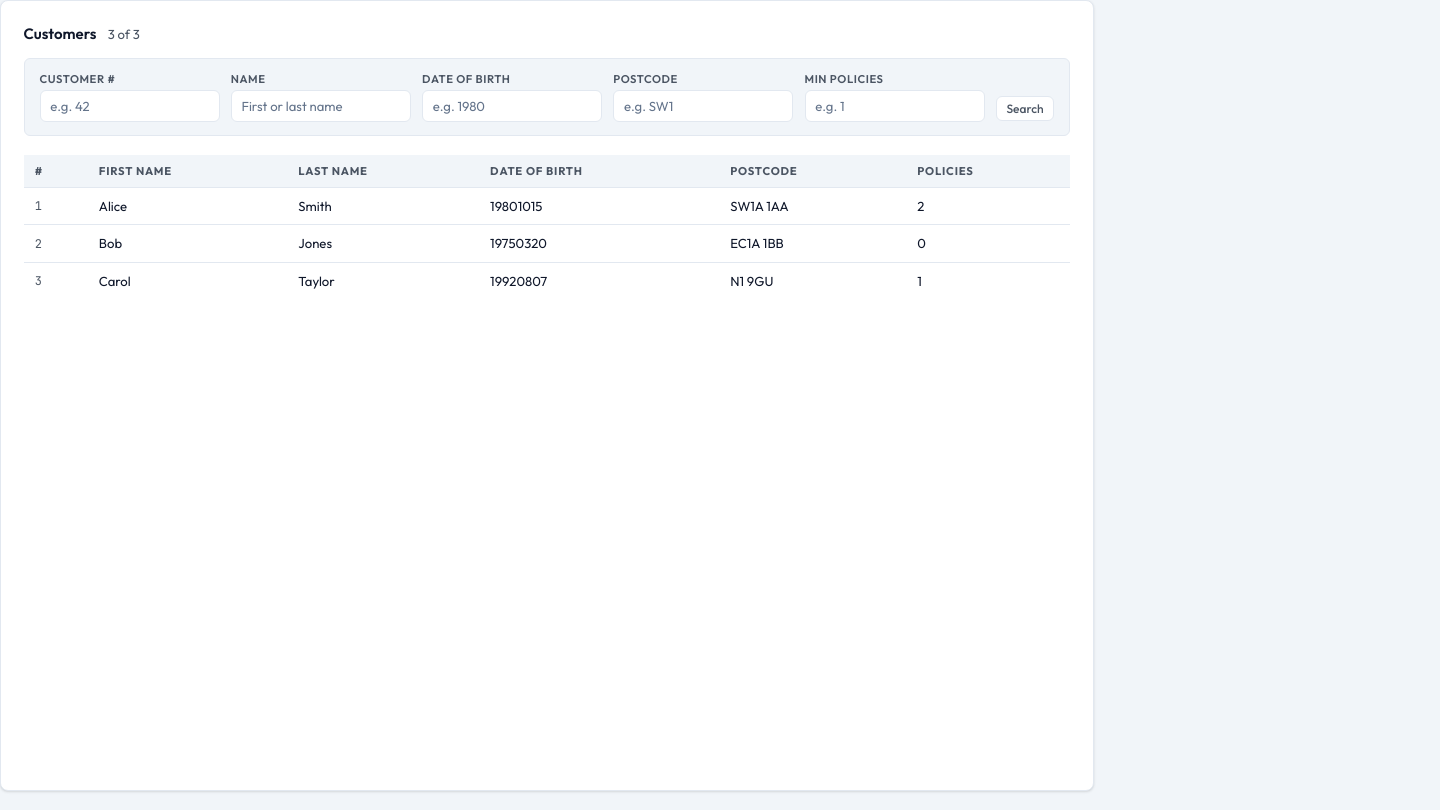
Test: CustomerList – detail panel › clicking a row opens the detail panel and fetches detail
Click the text "Alice". click: click(187, 206)
box: [88, 187, 287, 224]
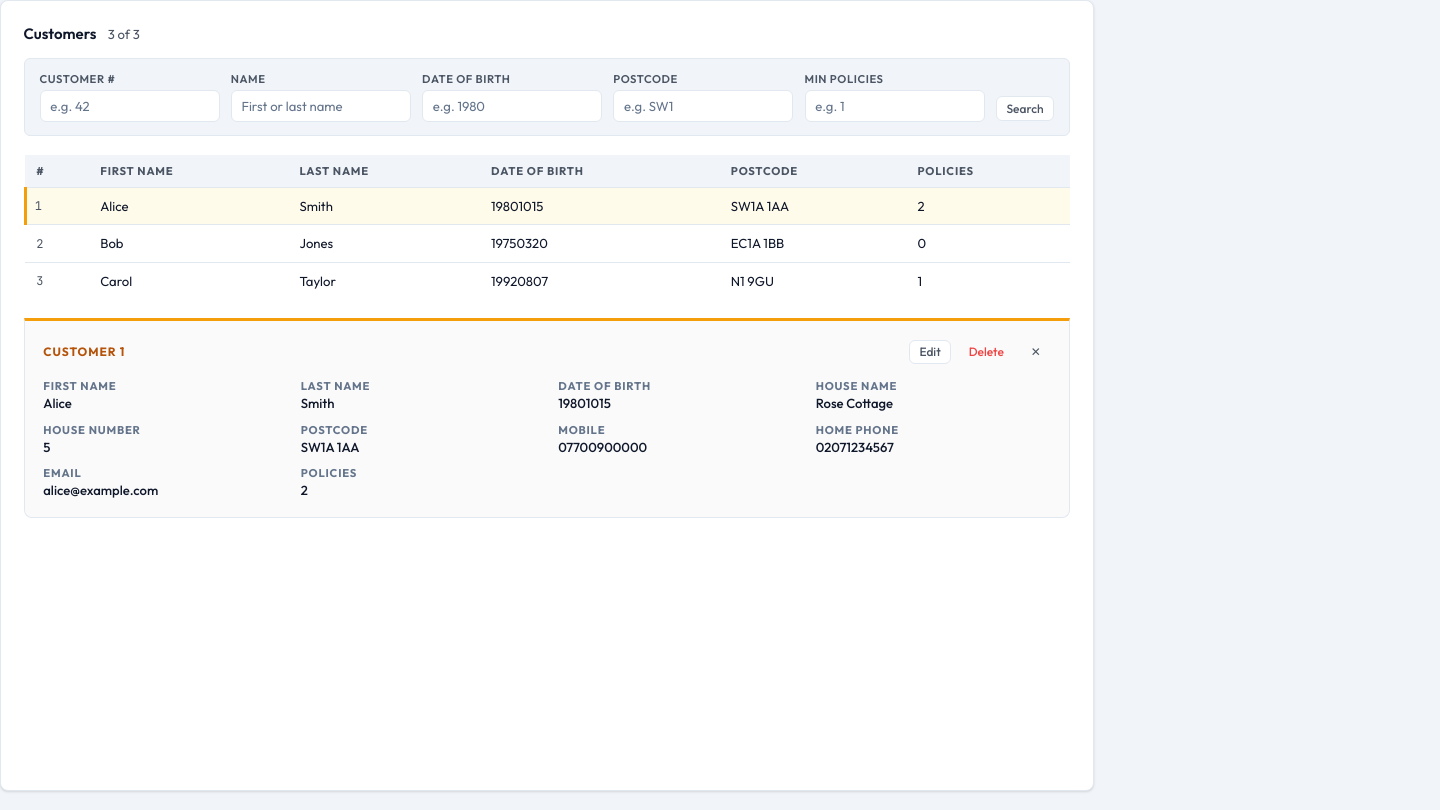
Now the text "Customer 1" is shown, box [43, 344, 125, 359]
